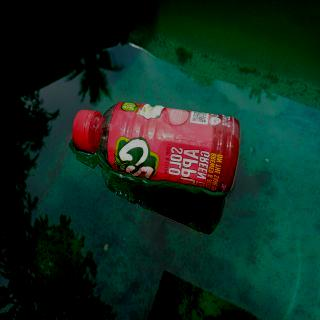bottle: (70, 100, 242, 194)
